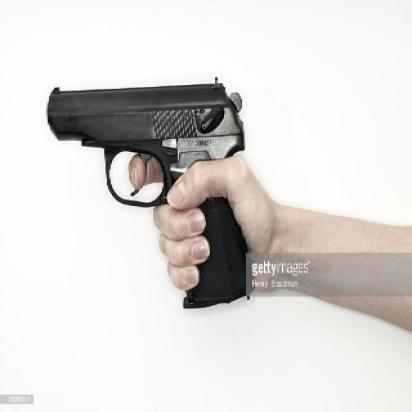Gun: (46, 76, 255, 309)
